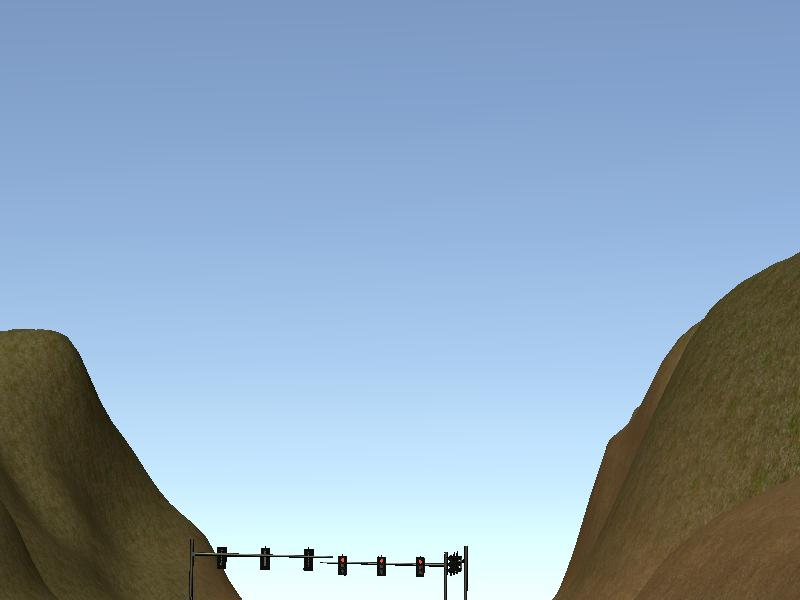Red: (337, 555, 347, 575), (377, 556, 386, 577), (416, 556, 424, 578)
